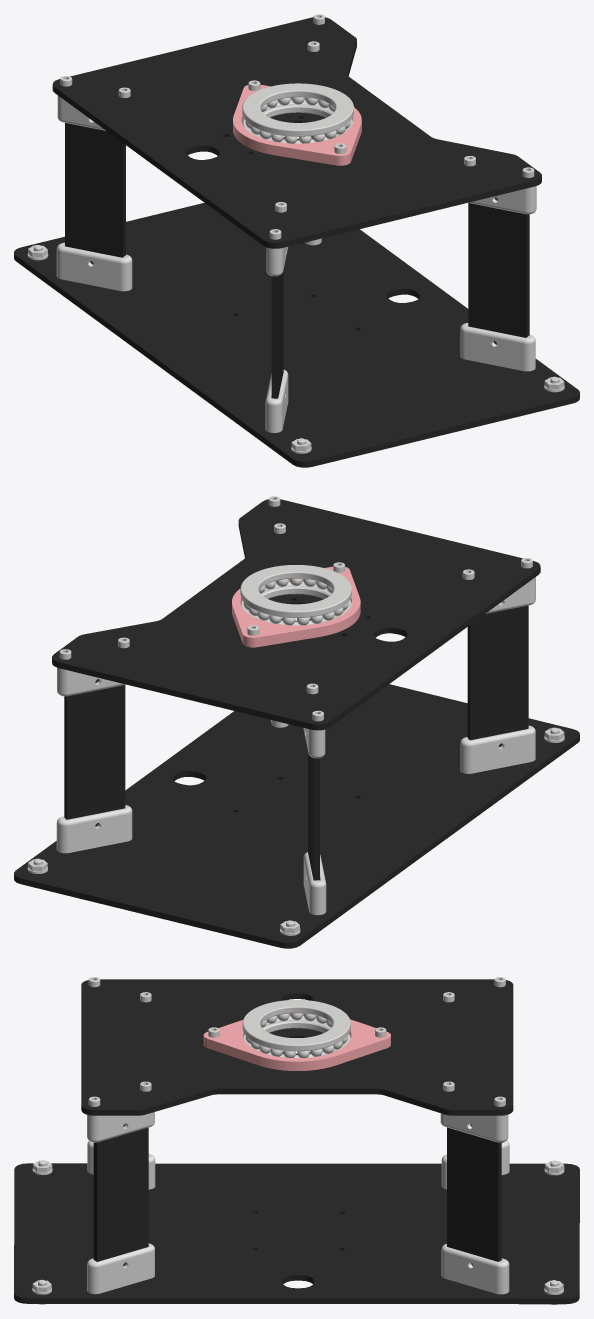
File: CameraRiser.dae
The picture shows the model from 3 angles, top to bottom: view 1: azimuth 30°, elevation 25°; view 2: azimuth 150°, elevation 25°; view 3: azimuth 270°, elevation 25°; orthographic projection. The views are drawn at different scales.
Parts seen in each view (by area): view 1: ColumnaBaseLidar3; view 2: ColumnaBaseLidar3; view 3: ColumnaBaseLidar3.
Boxes of the visible parts, x1,y1,x2,y2 form: ColumnaBaseLidar3: (14,14,579,467); ColumnaBaseLidar3: (14,496,579,948); ColumnaBaseLidar3: (14,977,579,1304).
Bounding box in the file's own units: 0.1534 × 0.2716 × 0.1165.
